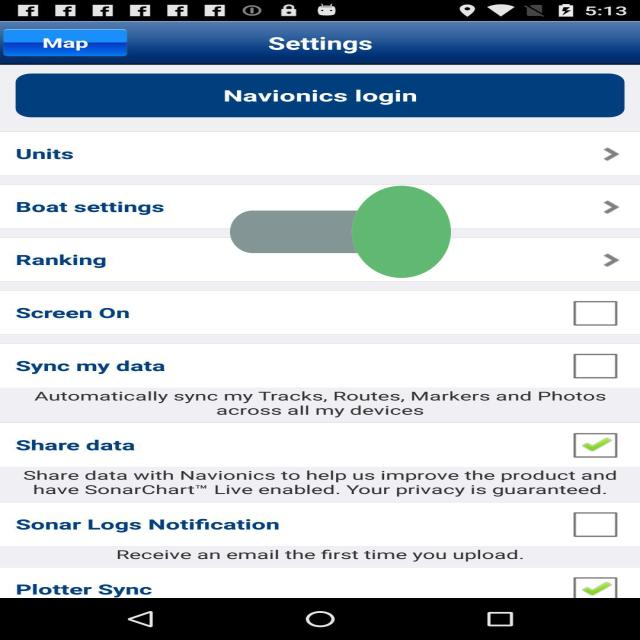social proof: (230, 129, 451, 335)
